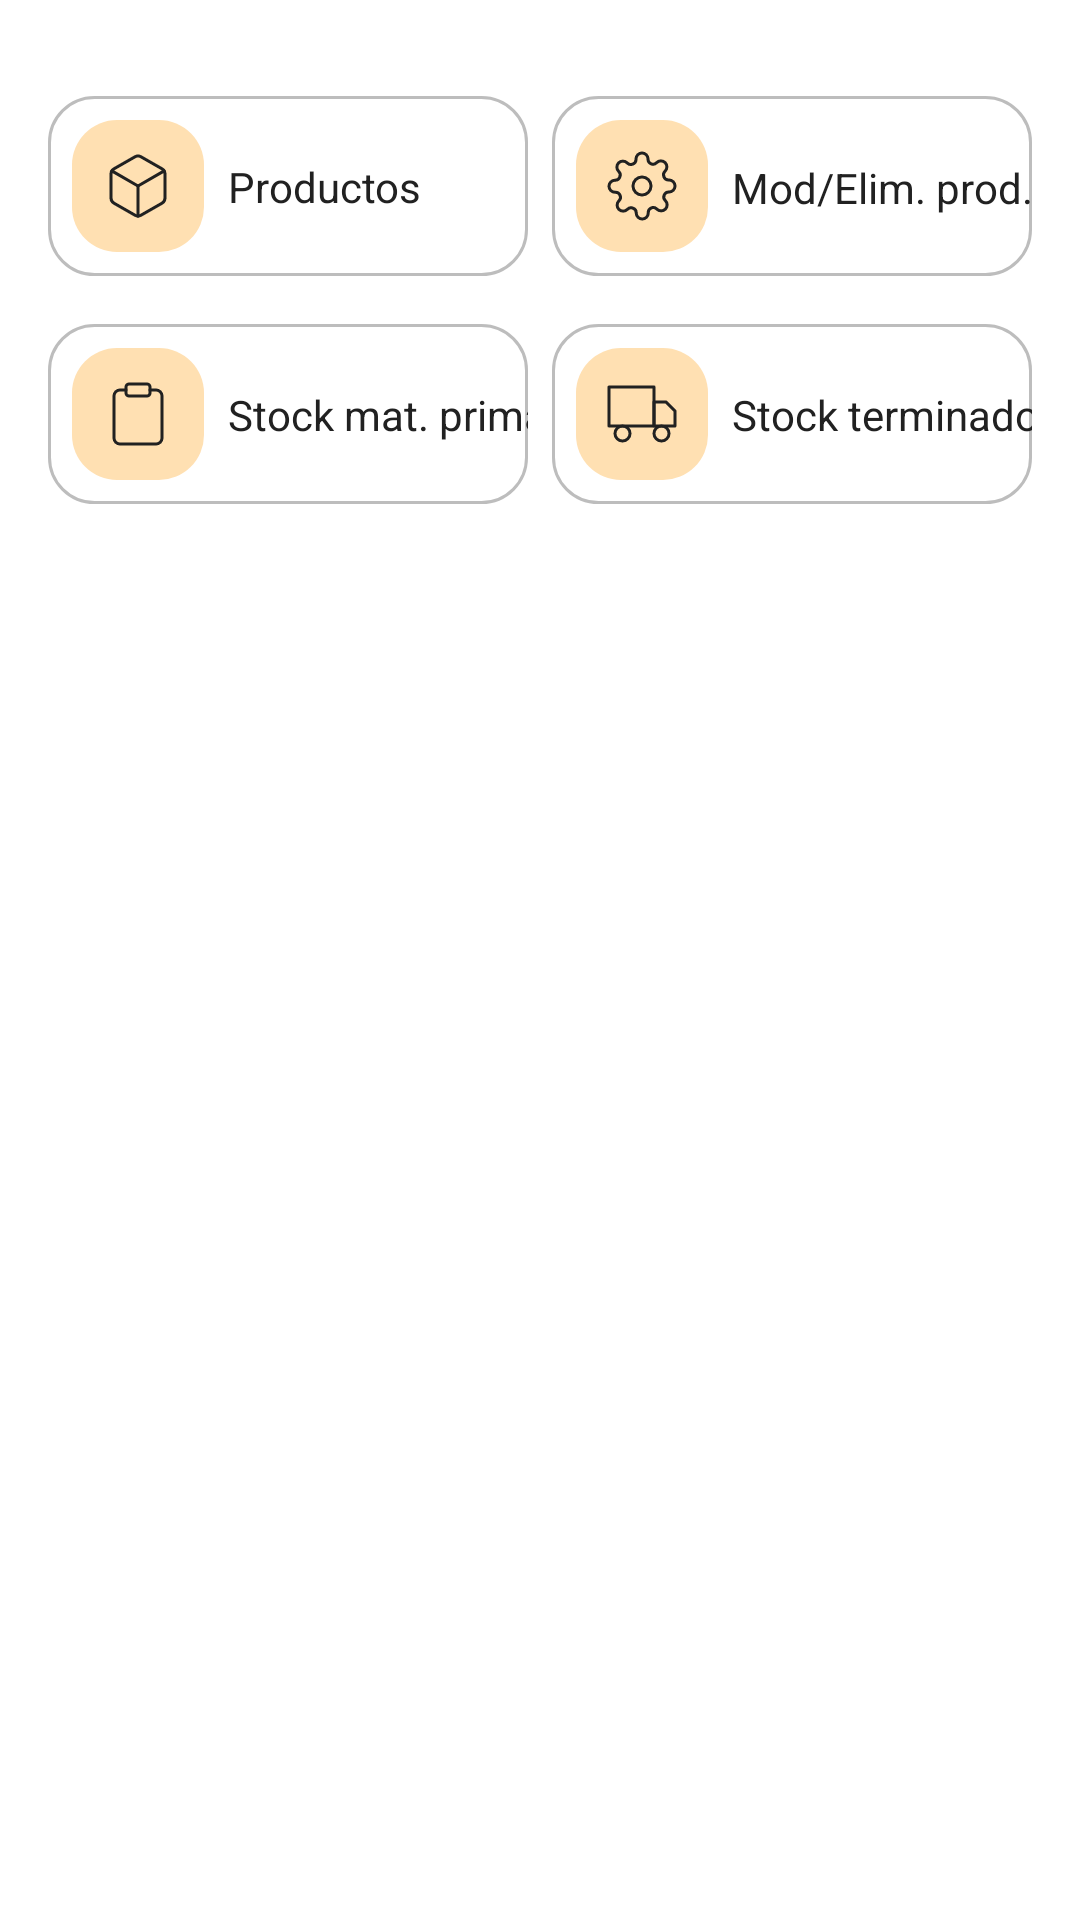

Icons on this 1080×1920 Android screen, each with its box as (x1, y1, x2, y2):
gear: (576, 120, 708, 252)
